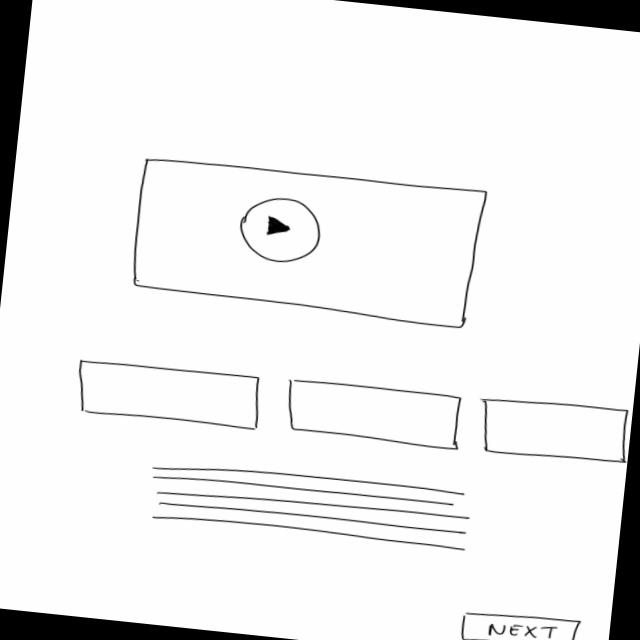button: (455, 607, 584, 640)
container: (75, 356, 264, 433), (284, 376, 466, 453), (475, 393, 633, 470)
textbox: (148, 456, 477, 556)
